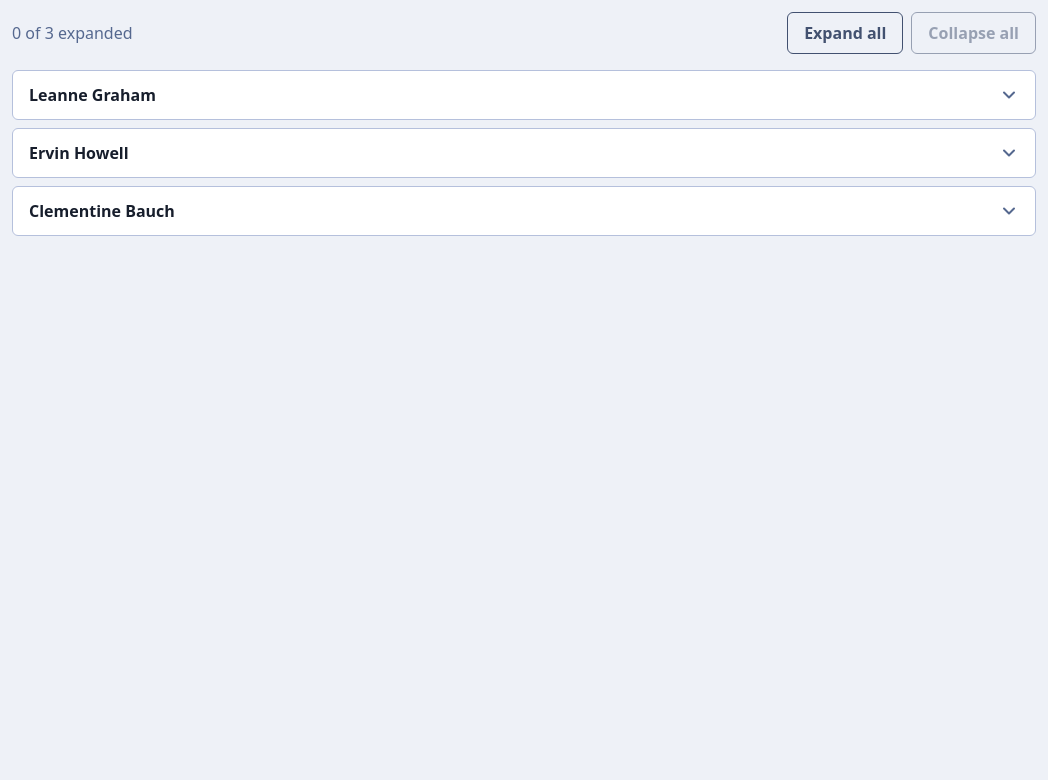
Scenario: UserList › expands and collapses everything from the toolbar
This screenshot has width=1048, height=780.
Expected: the button "Collapse all" is disabled, [911, 12, 1036, 54]
What coordinates should you click on to do the following:
click the button "Expand all"
I would click on:
 (845, 33)
Its box is [787, 12, 903, 54].
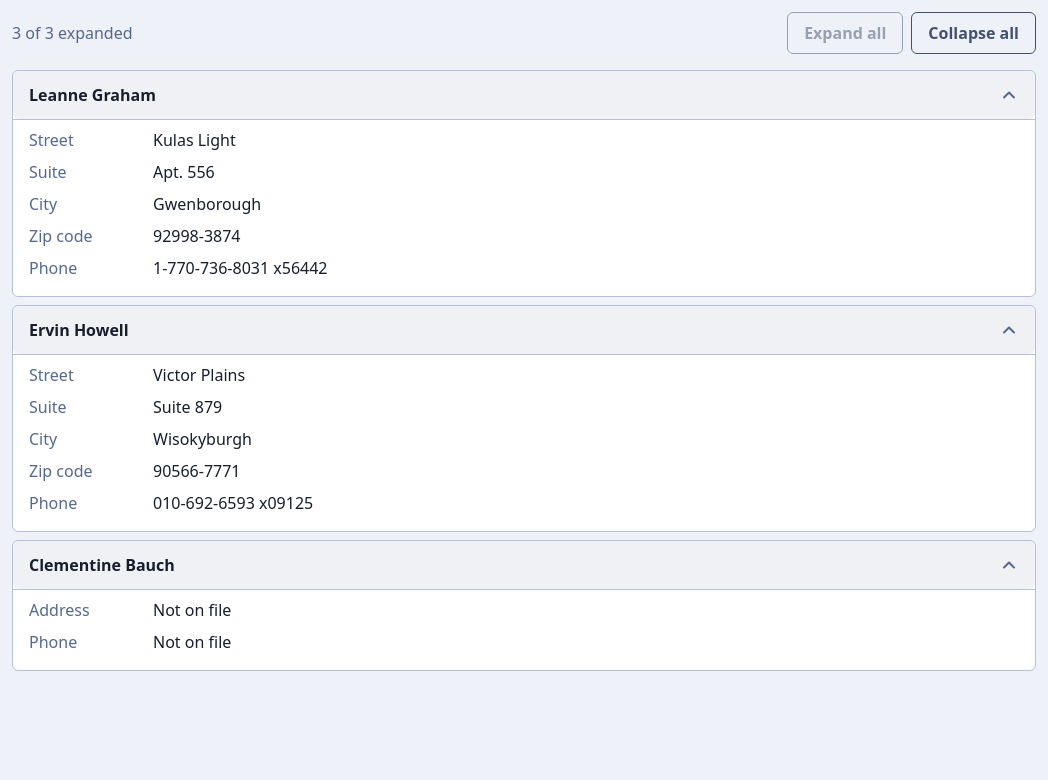
Now the text "Not on file" next to "Address" is shown, box [153, 599, 231, 621]
Now the button "Expand all" is disabled, box [787, 12, 903, 54]
What coordinates should you click on to do the following:
click the button "Collapse all"
I would click on:
 (974, 33)
Its box is [911, 12, 1036, 54].
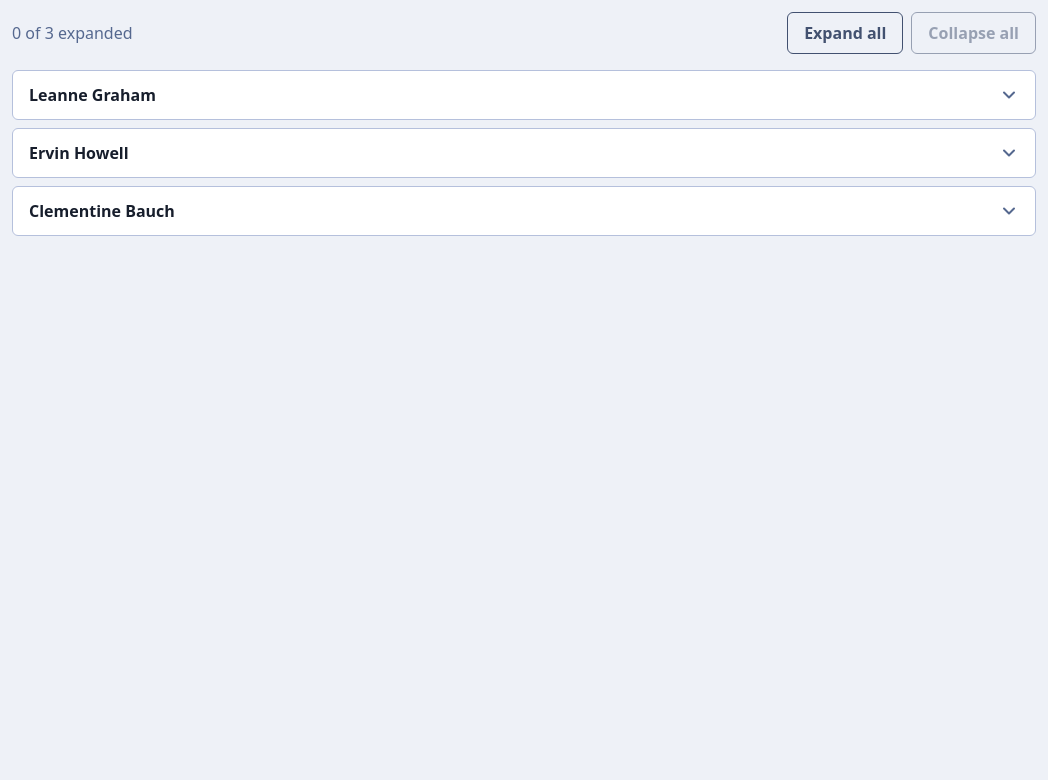
Now the text "0 of 3 expanded" is shown, box [12, 21, 133, 45]
